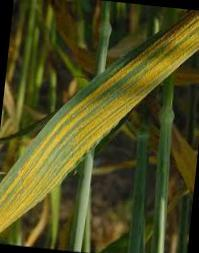Wheat: (38, 9, 199, 147), (63, 24, 199, 167)
